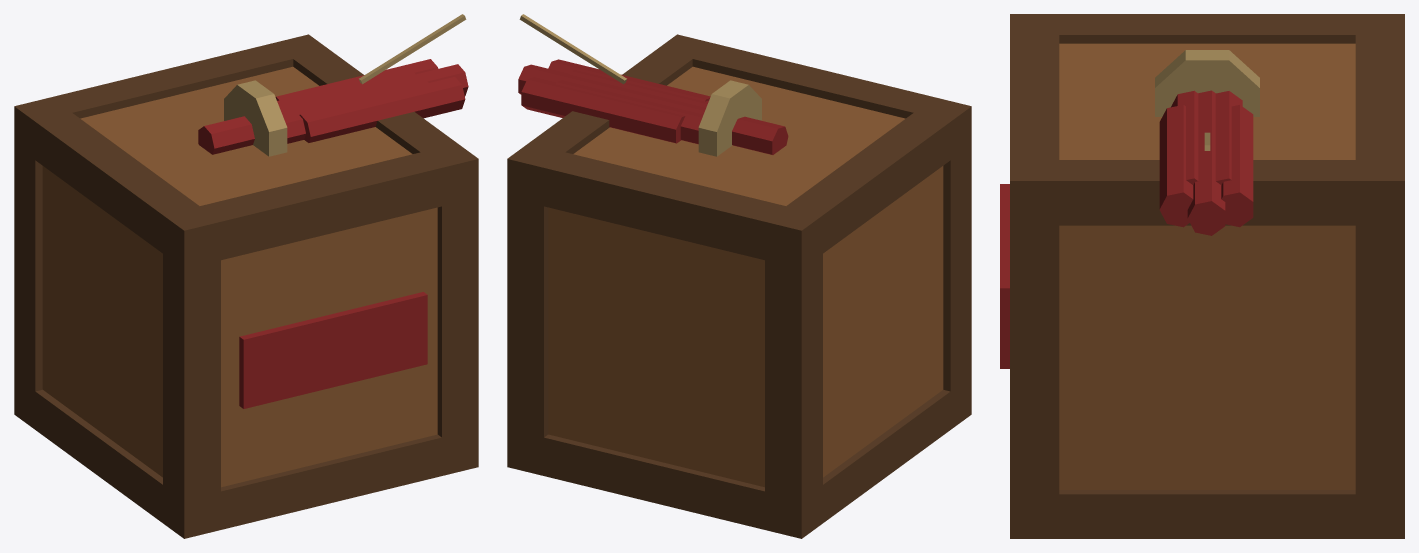
File: mine_dynamite_crate.glb
3 renders of one model, left to right at view 1: azimuth 30°, elevation 25°; view 2: azimuth 150°, elevation 25°; view 3: azimuth 270°, elevation 25°, orthographic. The views are drawn at different scales.
Parts seen in each view (by area): view 1: mine_dynamite_crate; view 2: mine_dynamite_crate; view 3: mine_dynamite_crate.
Boxes of the visible parts, x1=… form: mine_dynamite_crate: x1=14, y1=14, x2=478, y2=538; mine_dynamite_crate: x1=507, y1=14, x2=971, y2=538; mine_dynamite_crate: x1=1000, y1=14, x2=1404, y2=538.
Size of what is drawn, in the model's own units: 0.9938 by 0.9679 by 0.82.
